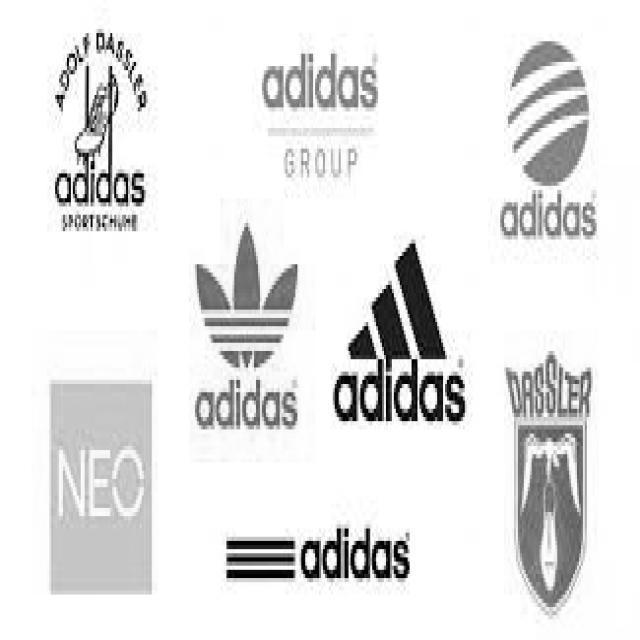Adidas: (185, 198, 301, 372)
